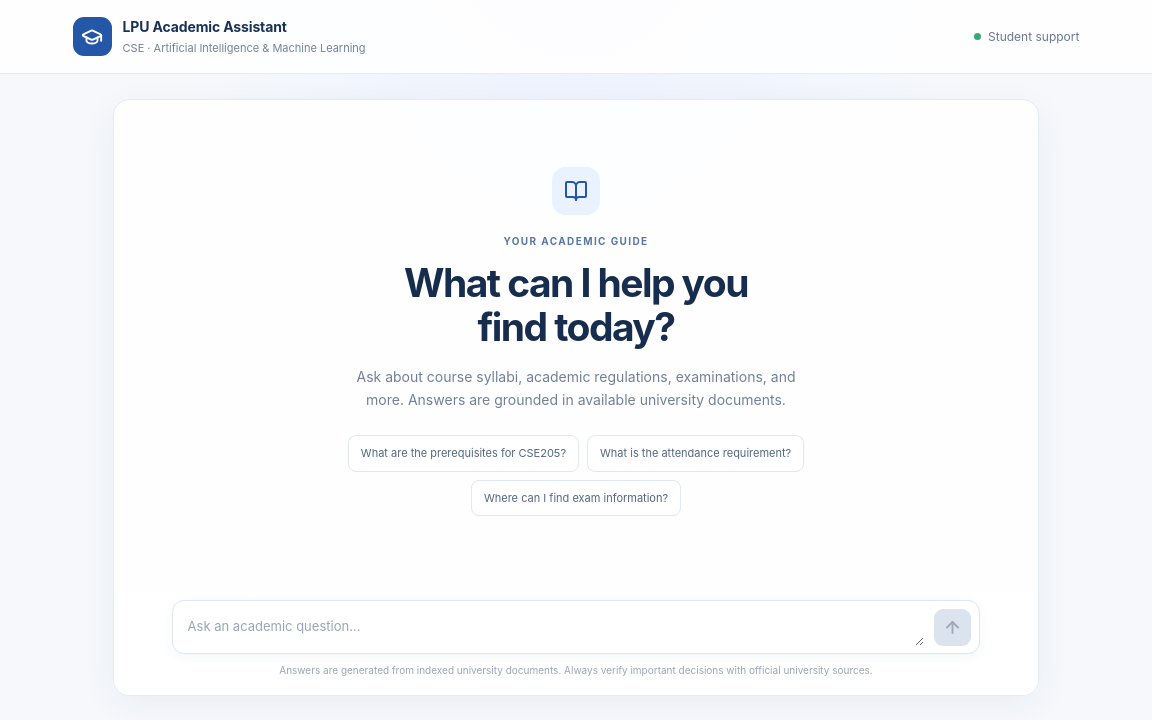
Test case: chat interface › renders insufficient evidence response from the API
Type "Tell me about the policy" into the text box named "Your question" at (556, 627), box [188, 608, 924, 646]
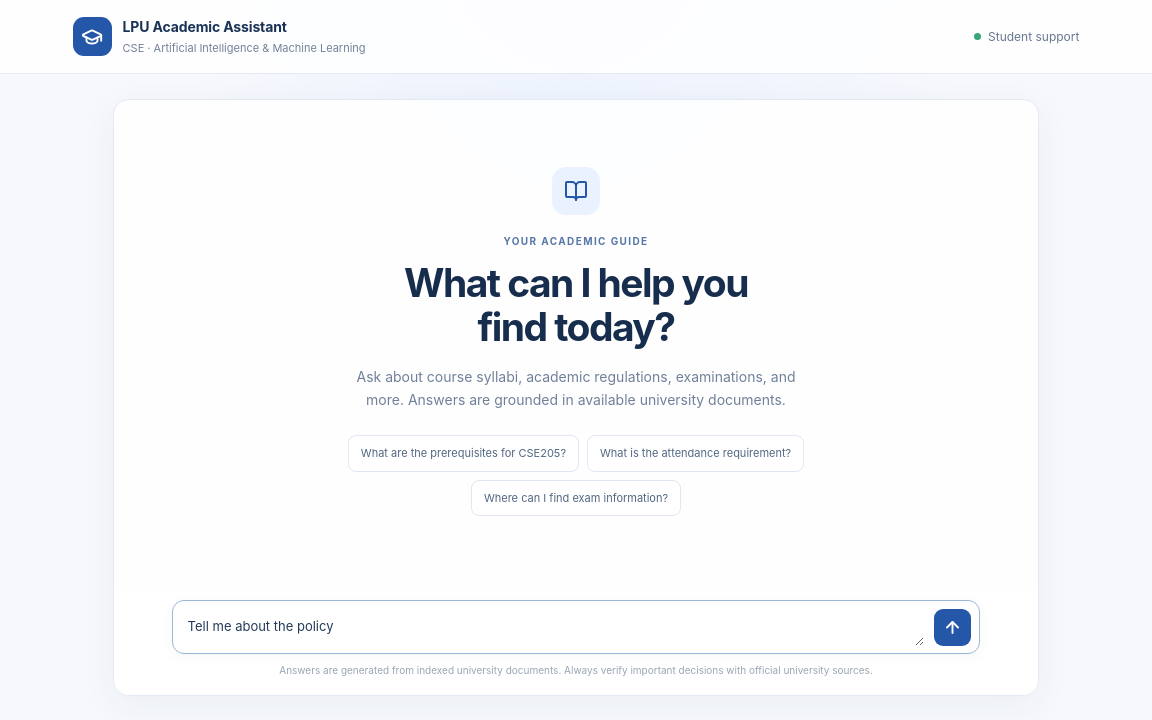
Click the button named "Send message" at (953, 628), box [934, 609, 971, 646]
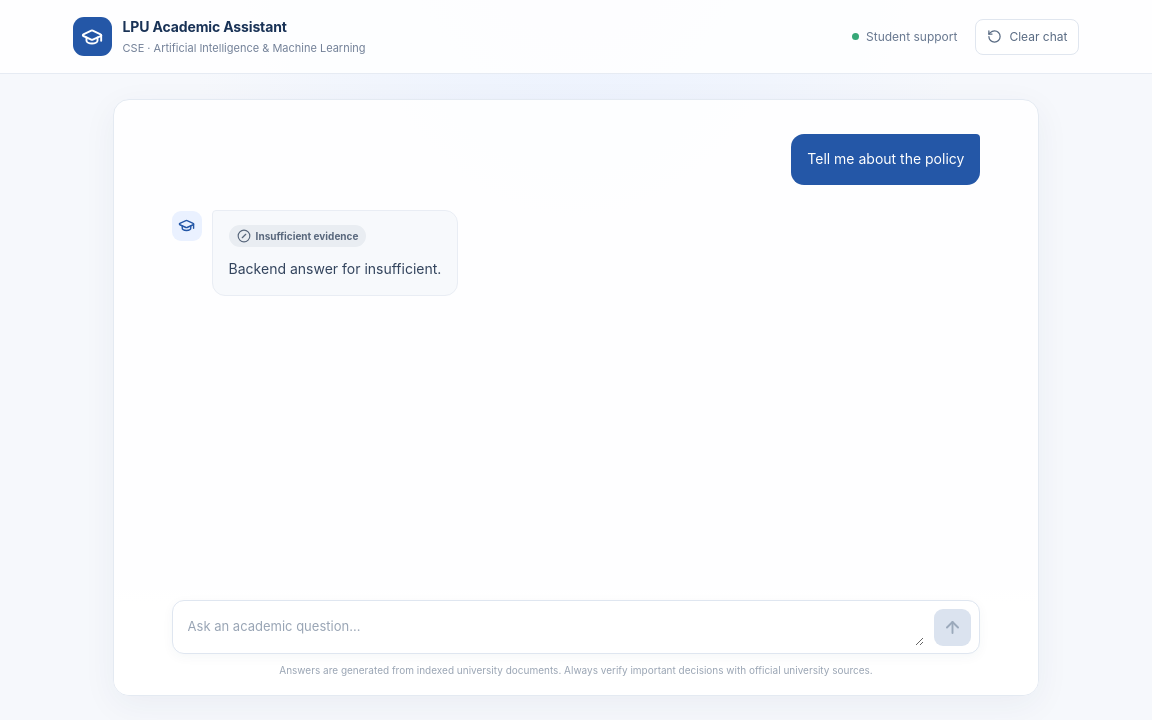
Check: the text "Backend answer for insufficient." is shown, box [229, 258, 441, 281]
